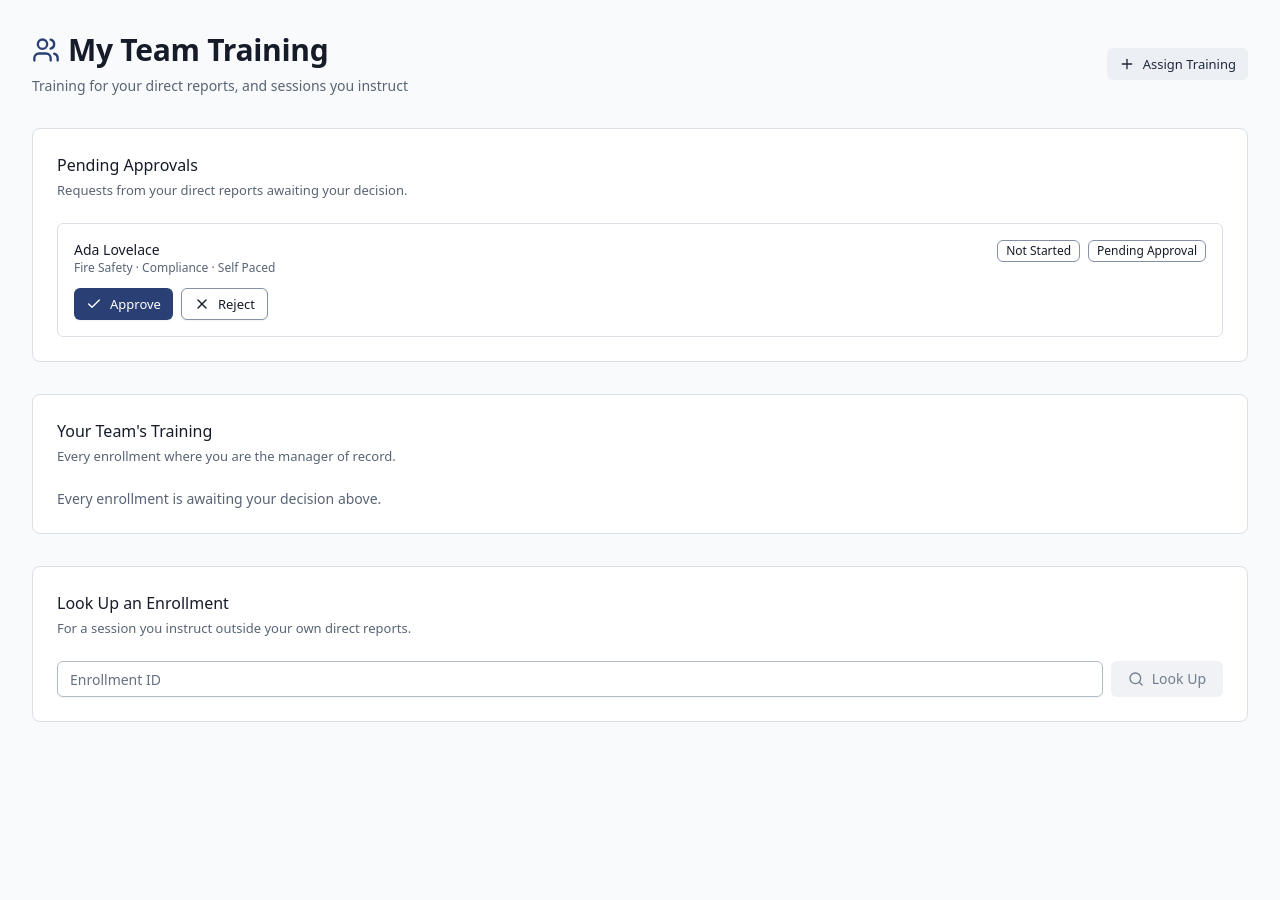
Test: My Team Training page (W89) › rejects through the real route
Click the button with test id "button-reject-6" at (224, 304), box top-left (181, 288), bottom-right (268, 320)
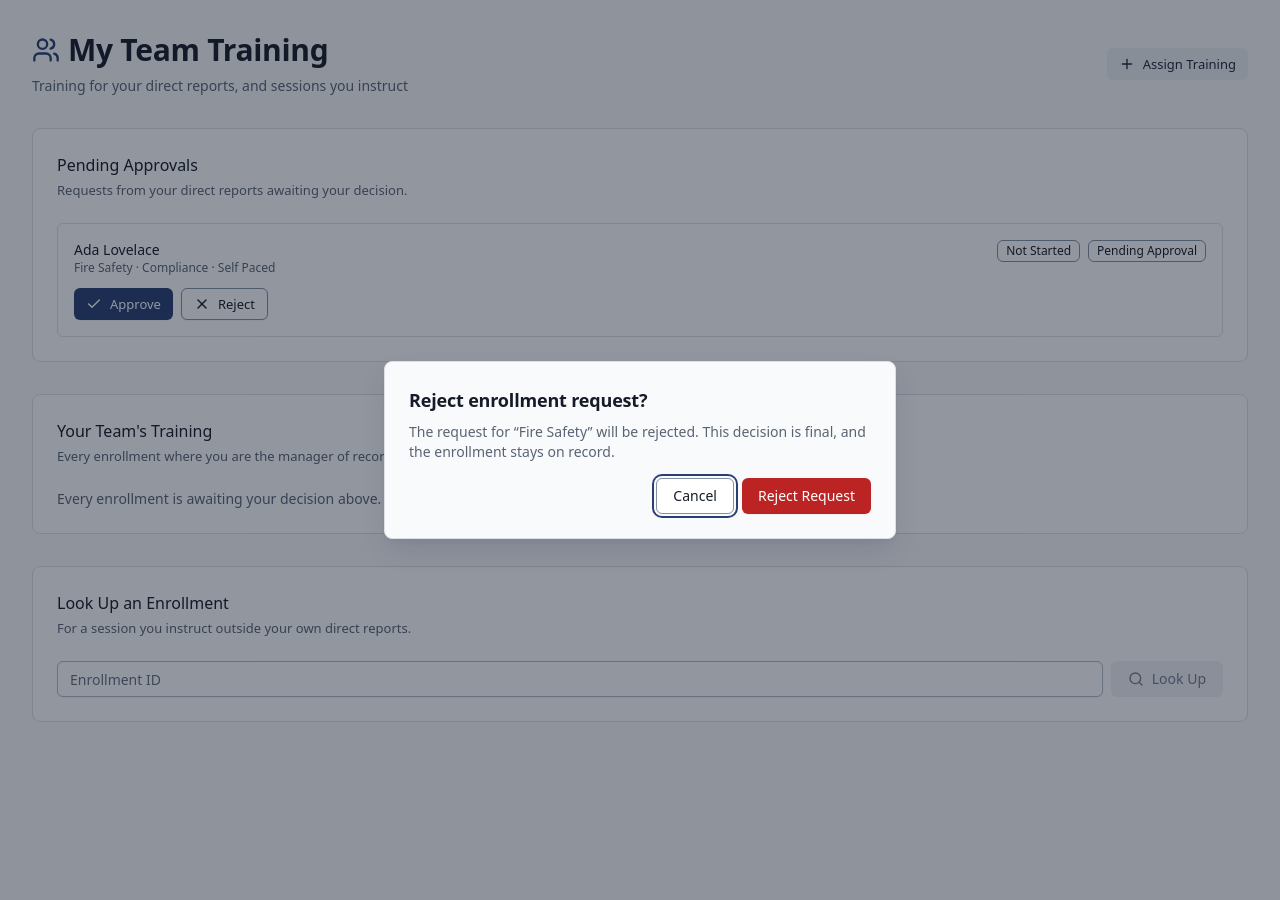
Result: the dialog with test id "dialog-reject-enrollment-6" shows "Reject enrollment request?" at top-left (409, 388), bottom-right (647, 412)
Result: the dialog with test id "dialog-reject-enrollment-6" shows "Fire Safety" at top-left (519, 422), bottom-right (588, 441)
Click the button with test id "dialog-reject-enrollment-6-confirm" at (806, 496), box top-left (742, 478), bottom-right (871, 514)
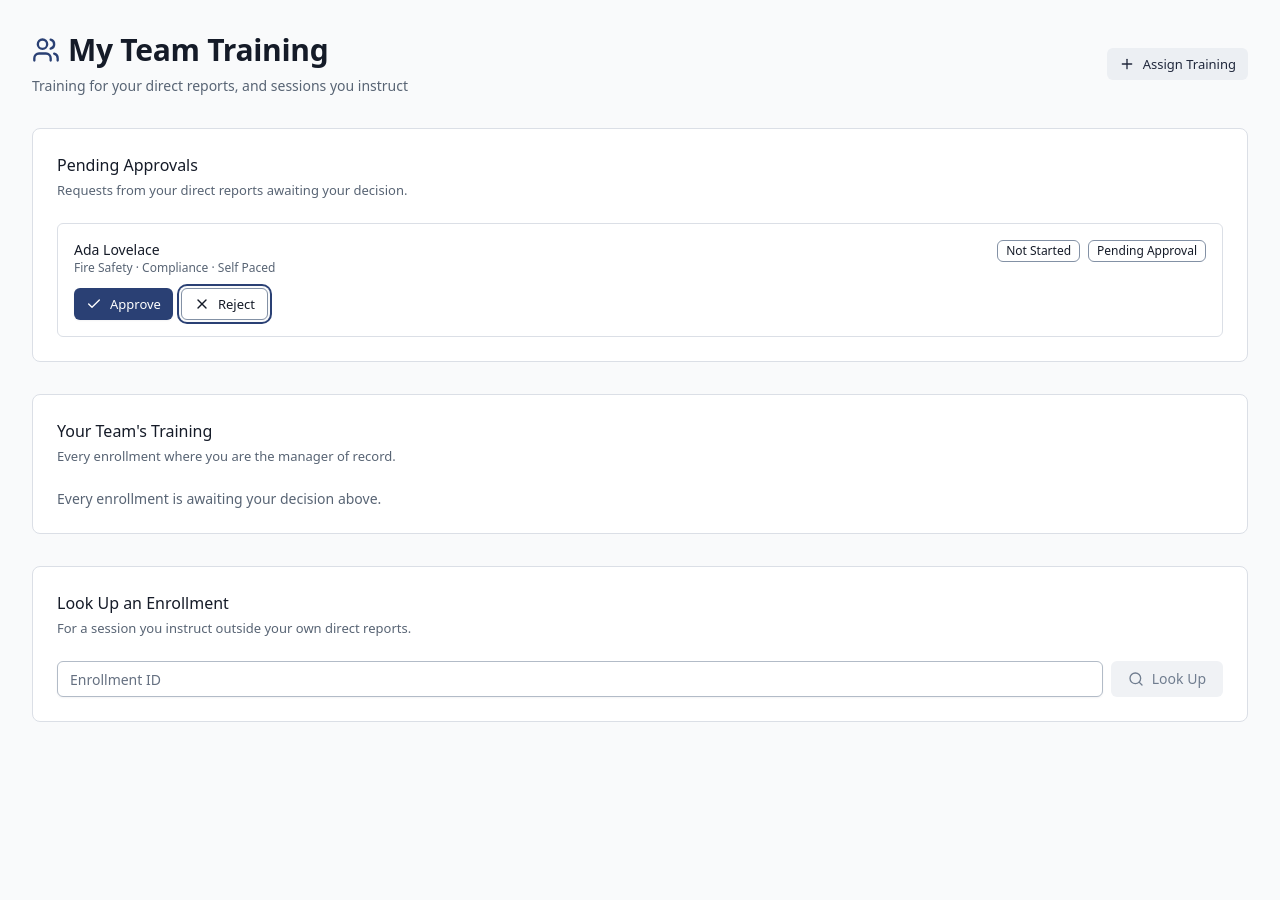
Result: the dialog with test id "dialog-reject-enrollment-6" is gone
